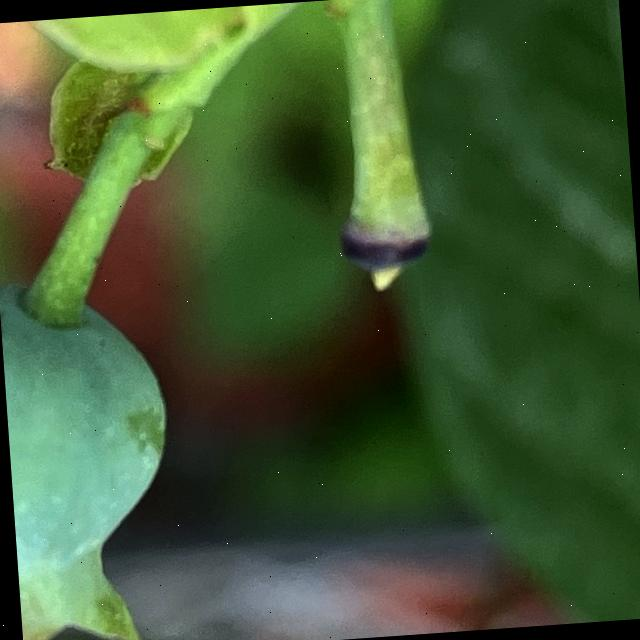Blueberries: (0, 264, 189, 640)
